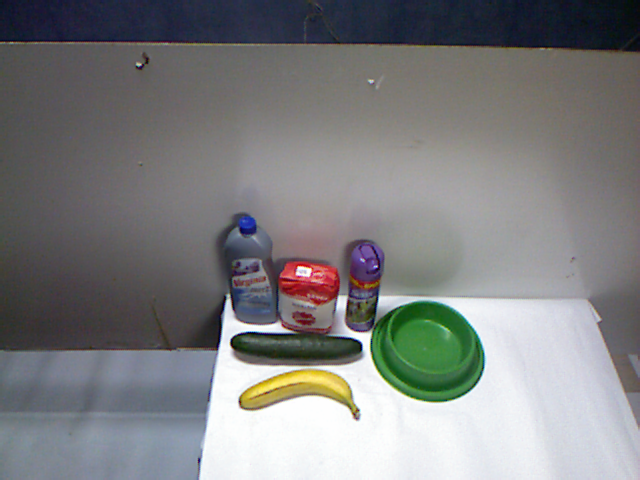aerosol: (244, 254, 287, 346)
balsamo: (286, 255, 330, 345)
estuche: (325, 310, 382, 395)
lata: (212, 319, 257, 387)
pescado: (384, 314, 436, 397)
platano: (271, 341, 371, 426)
